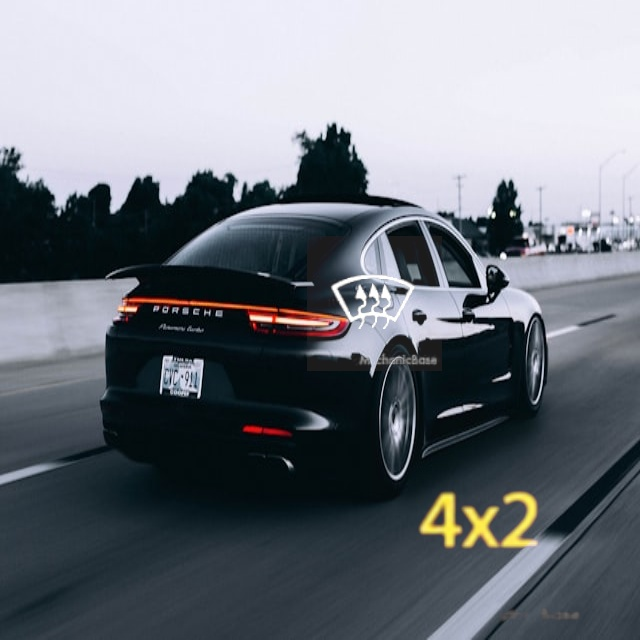symbol: (370, 413, 589, 632), (307, 236, 442, 371)
